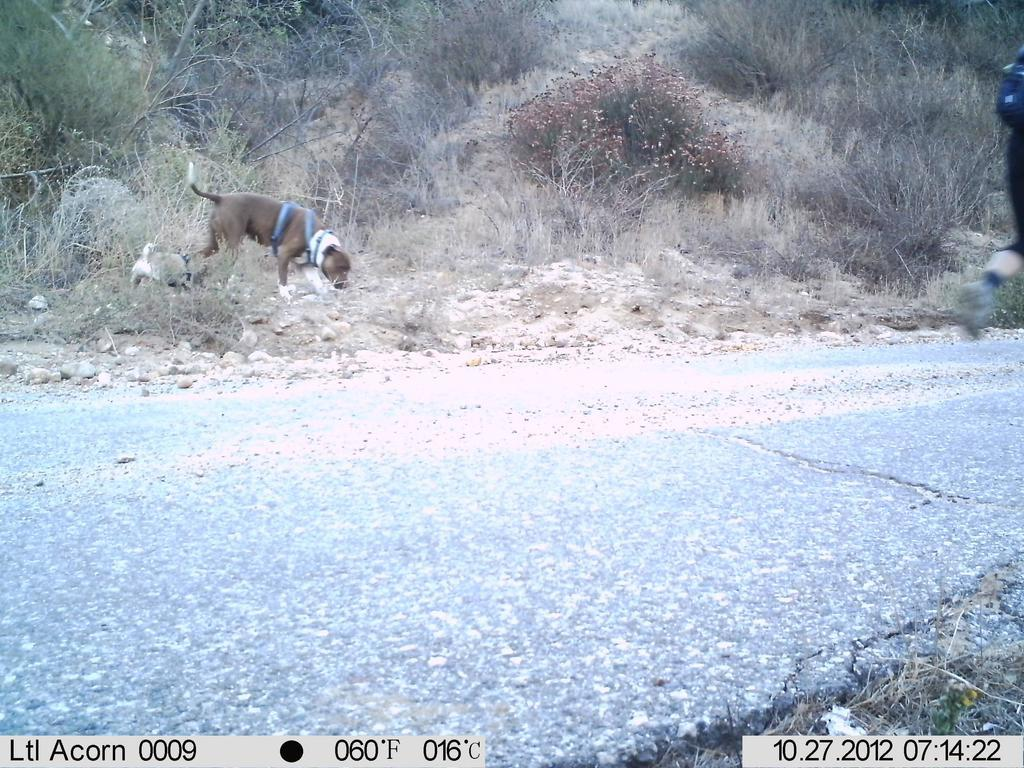dog: (183, 155, 356, 297)
